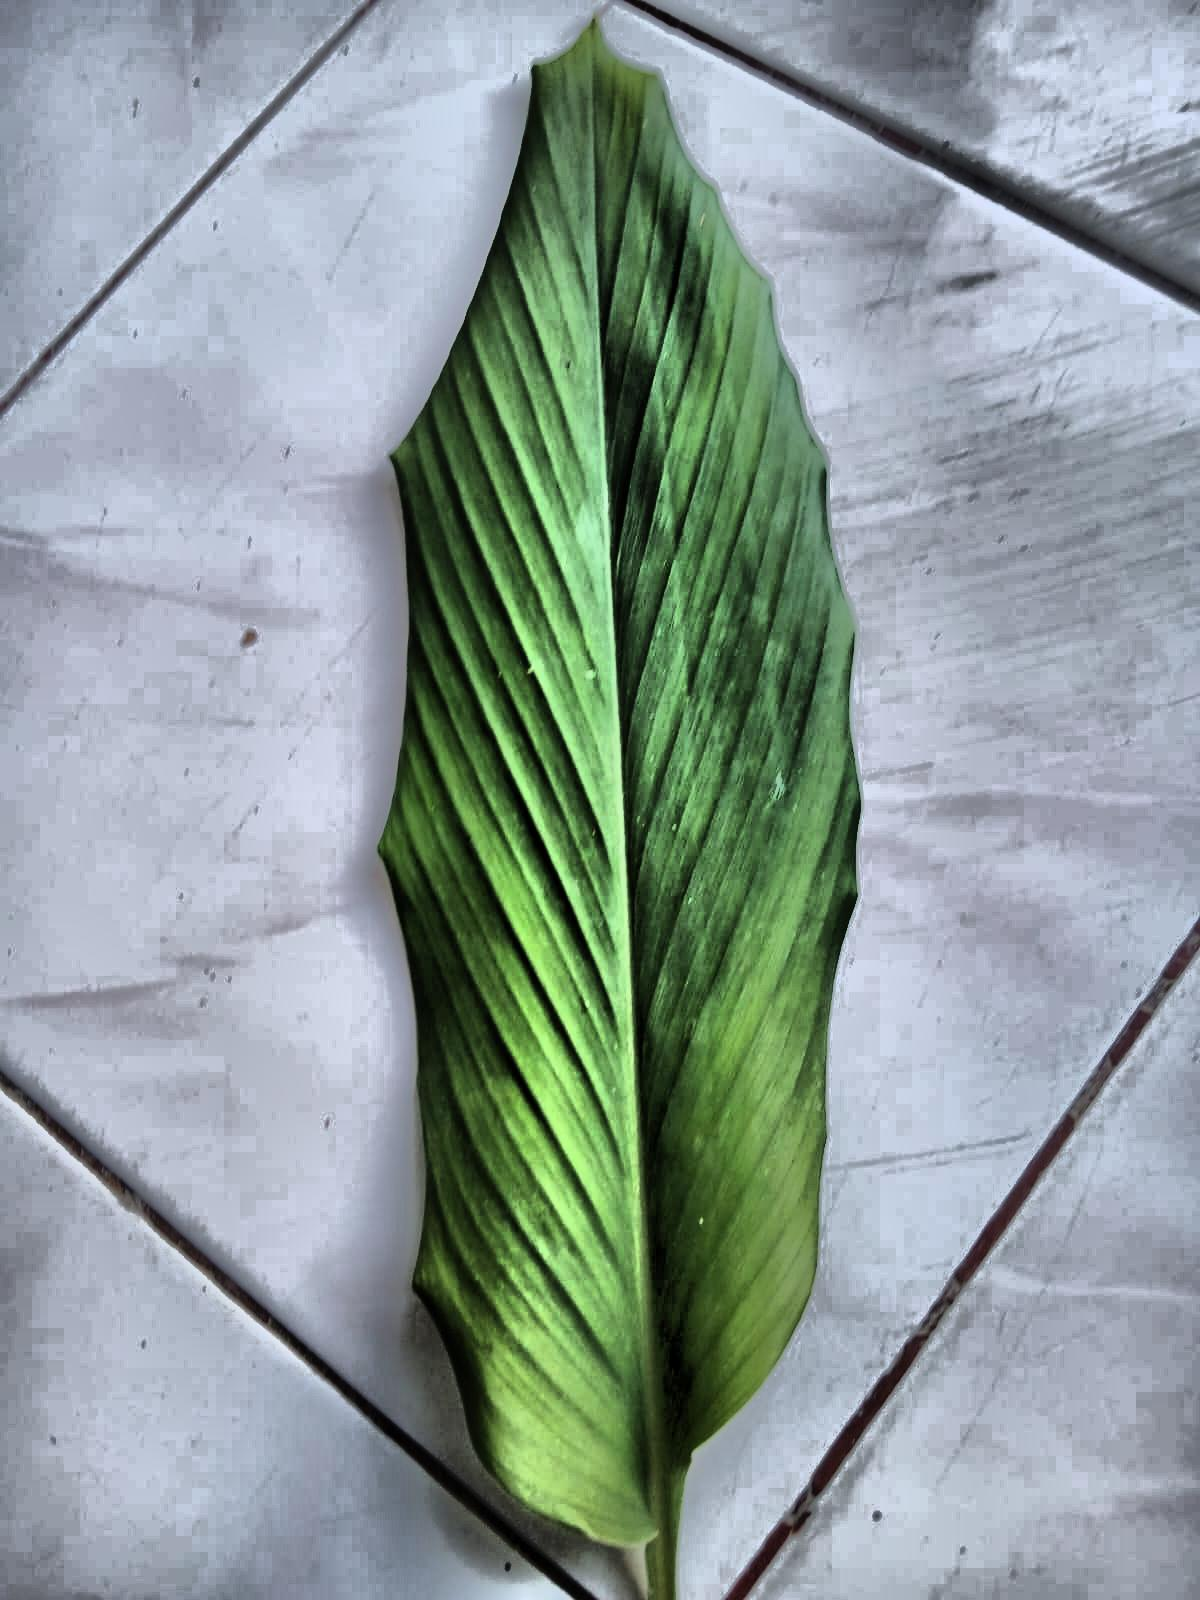daun kunyit: (379, 21, 860, 1599)
